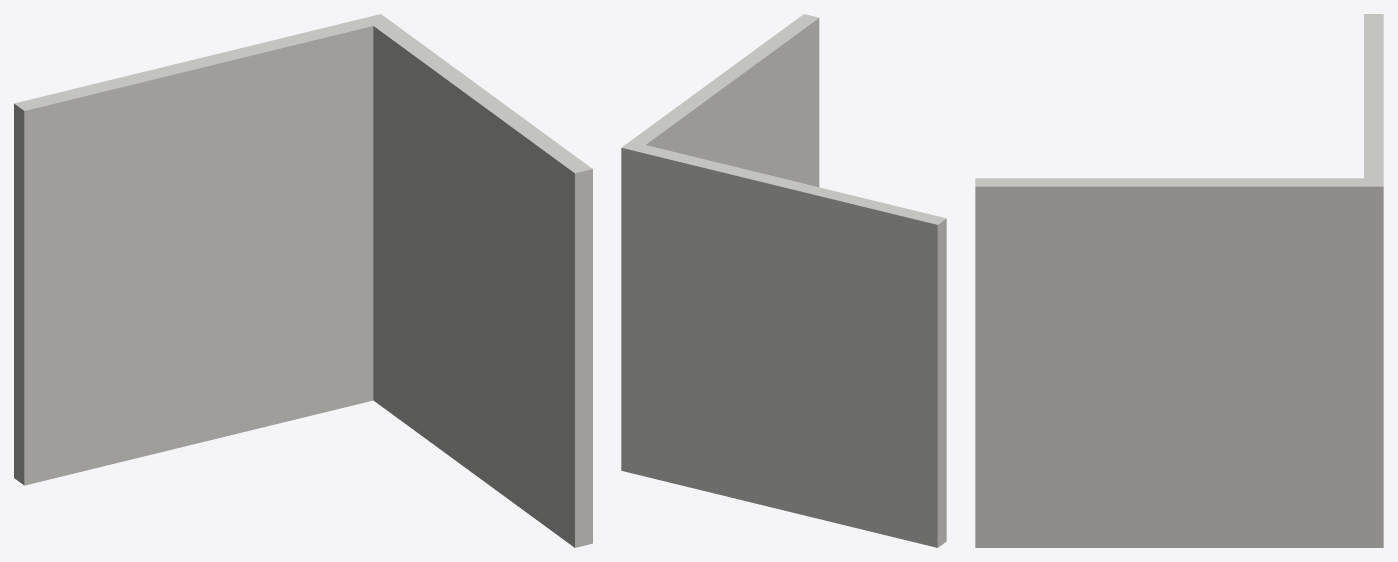
File: Wal_3_Corner_A.fbx
3 renders of one model, left to right at view 1: azimuth 30°, elevation 25°; view 2: azimuth 150°, elevation 25°; view 3: azimuth 270°, elevation 25°, orthographic. The views are drawn at different scales.
Parts seen in each view (by area): view 1: polySurface18; view 2: polySurface18; view 3: polySurface18.
Boxes of the visible parts, <box> form: polySurface18: <box>14,14,592,547</box>; polySurface18: <box>621,14,946,547</box>; polySurface18: <box>975,14,1383,547</box>.
Size of the model in its own units: 4.1 by 4 by 4.1.
Materials: 1 (1 with a texture image).
